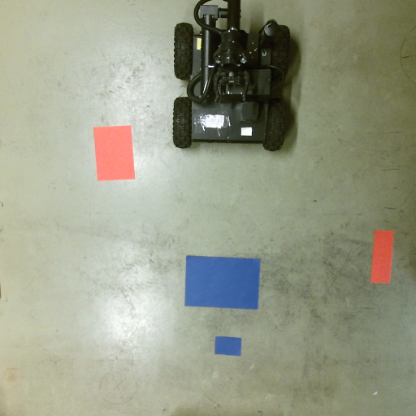Blue: (183, 256, 261, 309), (212, 336, 245, 357)
Jaguar: (170, 0, 289, 154)
Red: (91, 126, 138, 181), (369, 230, 392, 286)
